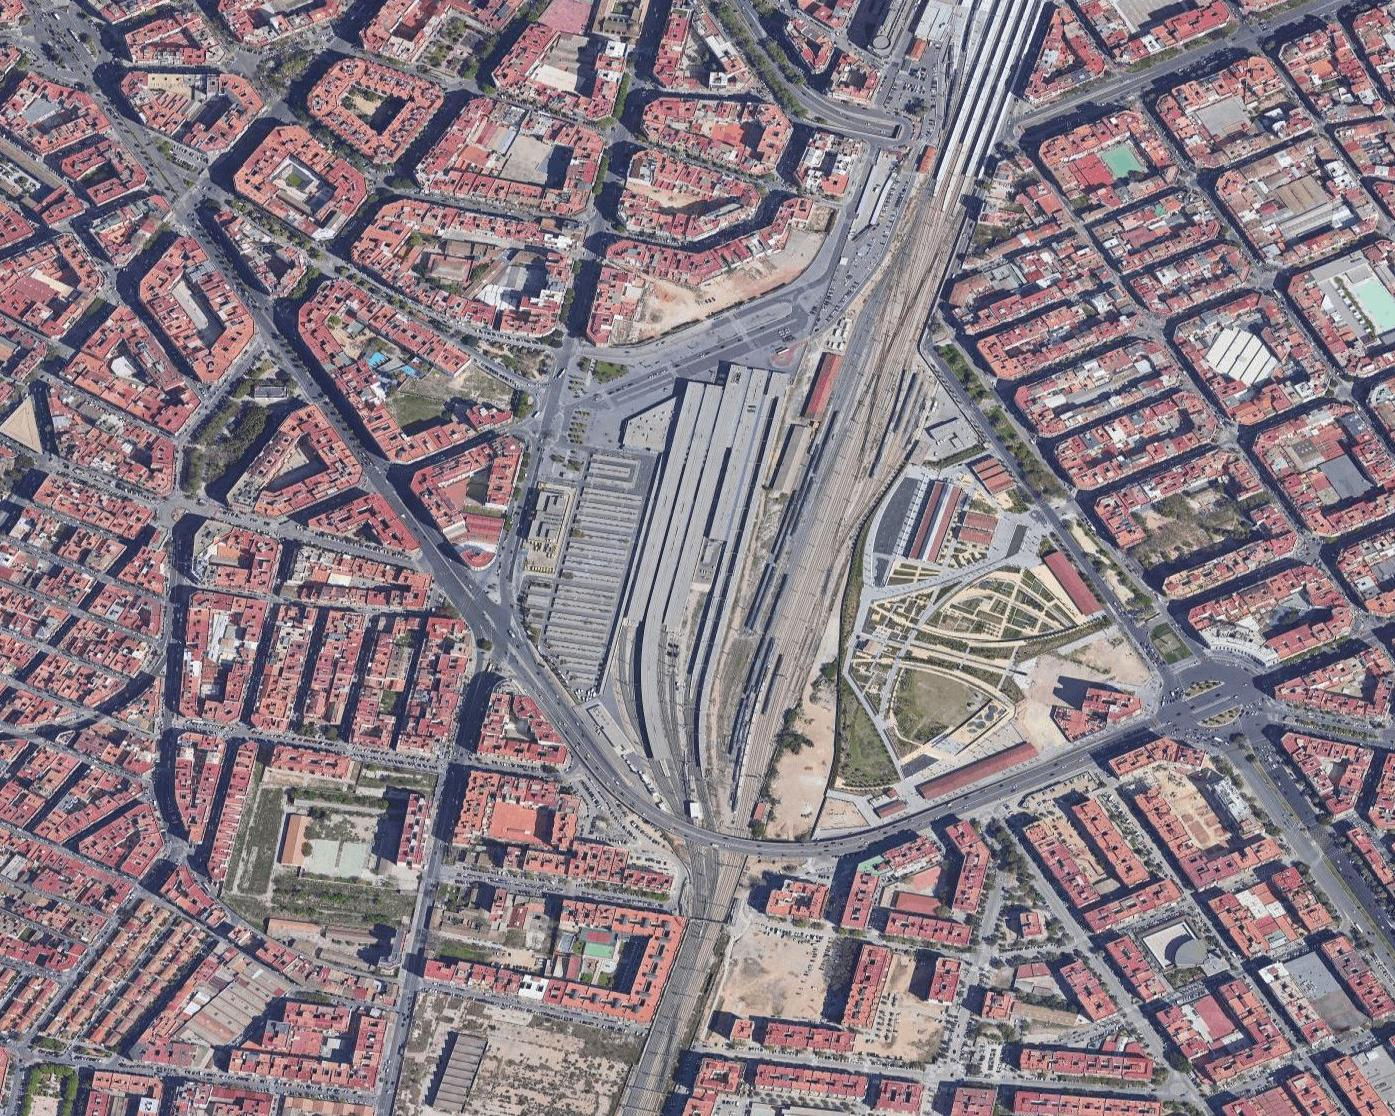train_station: (606, 310, 901, 826)
